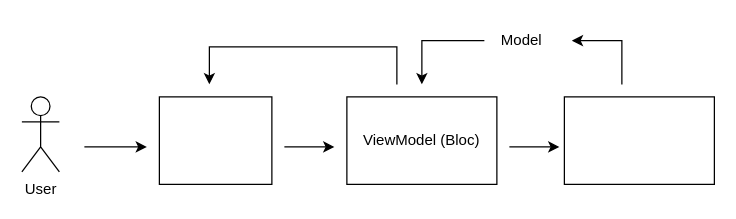
This 736x219 diagram has some shape labels left out. Each missing label, with the centre of its shape:
Repository: (638,140)
UI: (215,140)
